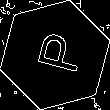P_W: (26, 31, 84, 79)
